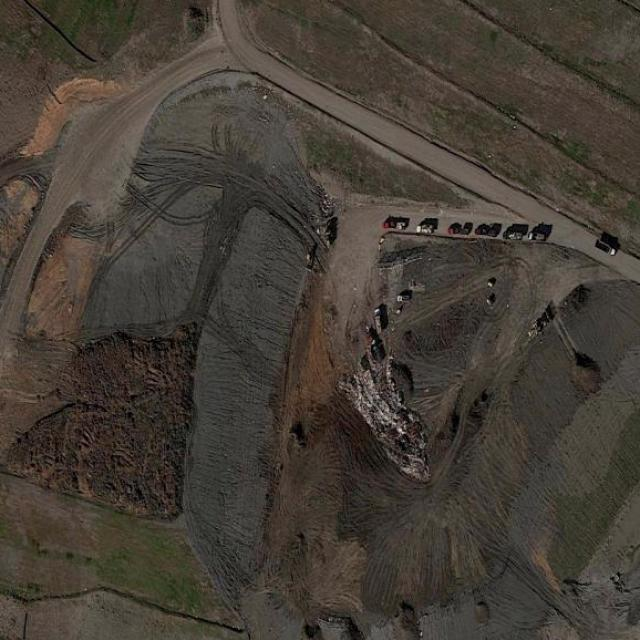dump_site: (338, 334, 451, 496)
